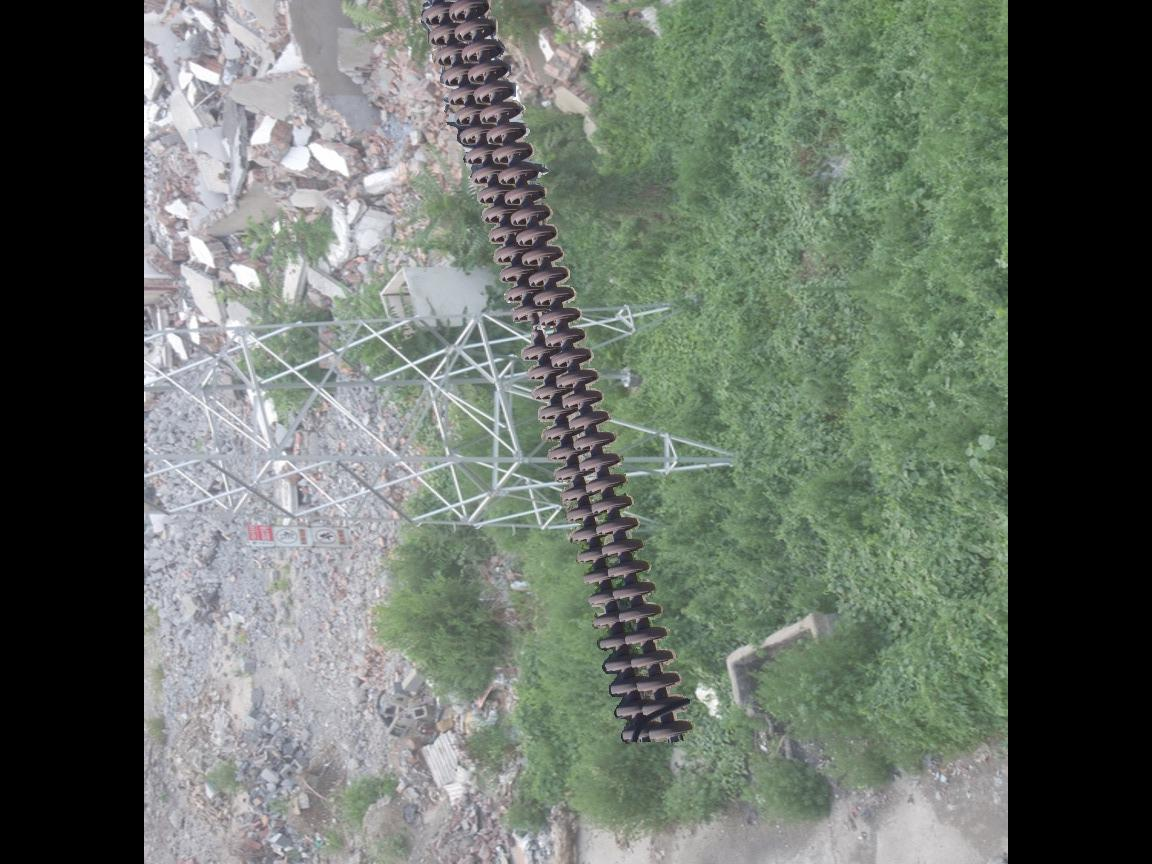insulator: (414, 1, 694, 749)
insulator_stringdrop: (508, 300, 557, 365)
